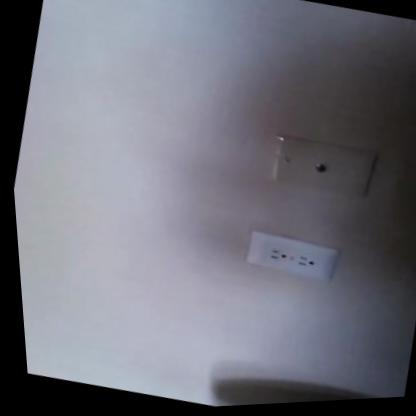OUTLET: (242, 225, 340, 287)
